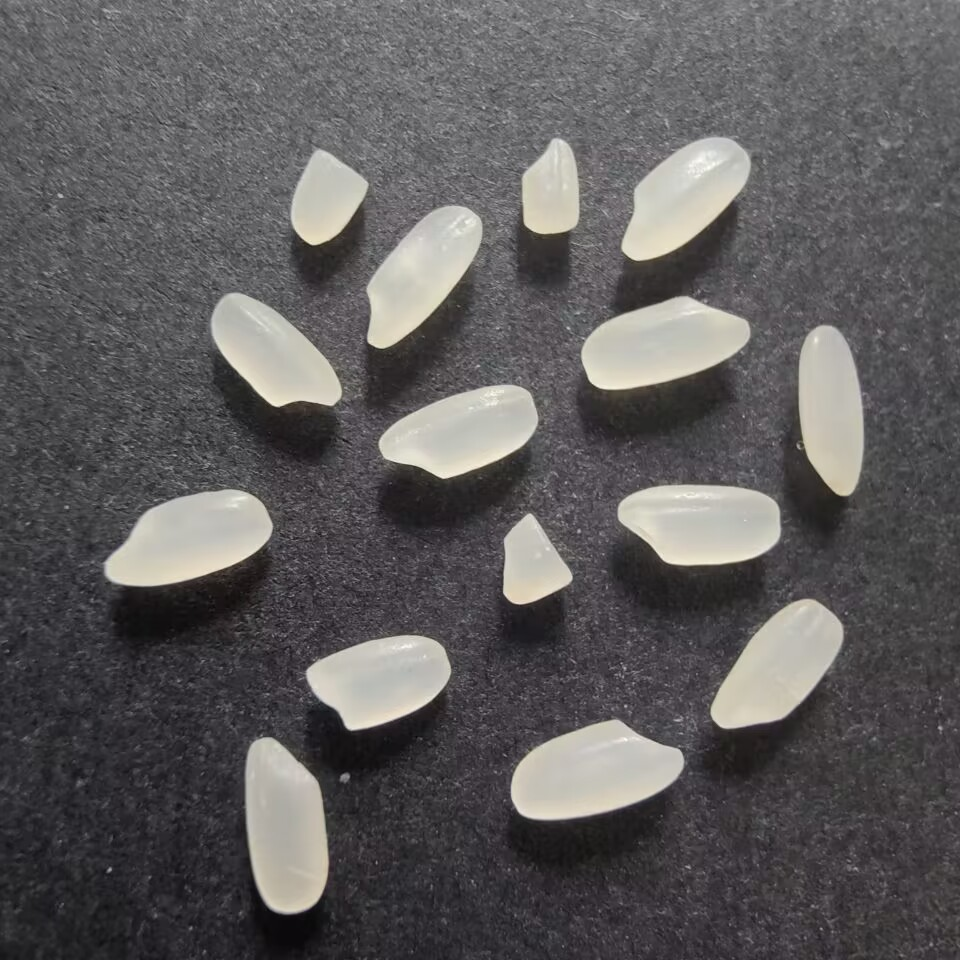broken: (300, 630, 453, 736), (286, 142, 371, 247), (496, 509, 576, 609), (520, 135, 583, 238)
rice: (503, 714, 694, 824), (705, 595, 847, 733), (95, 485, 277, 590), (361, 200, 484, 354), (614, 133, 754, 266), (577, 290, 754, 394), (238, 732, 334, 918), (371, 379, 541, 481), (207, 289, 347, 411), (613, 481, 785, 570), (793, 315, 871, 502)
